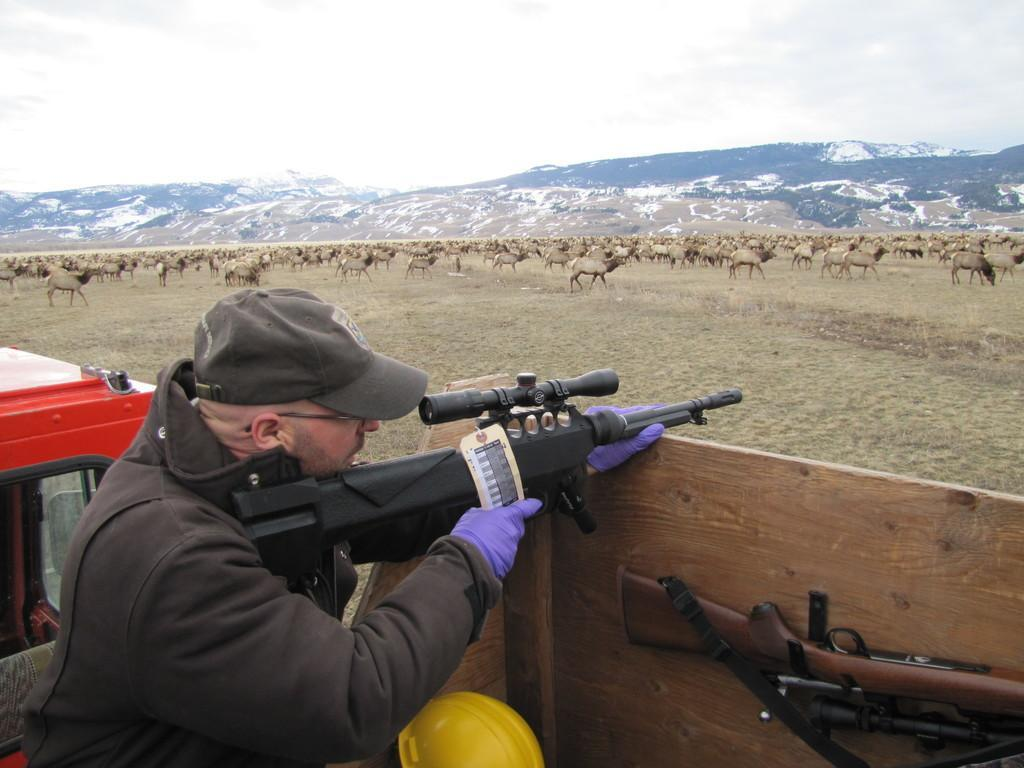gun: (230, 370, 742, 572)
